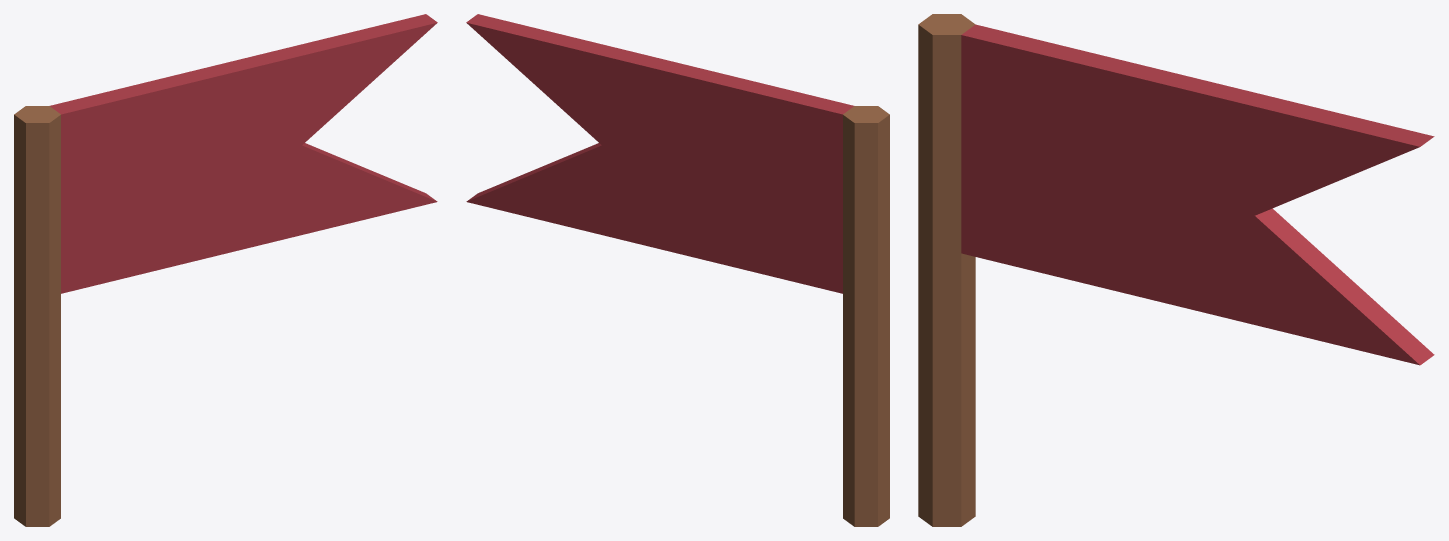
Rendered from Banner.glb.
The picture shows the model from 3 angles, left to right: view 1: azimuth 30°, elevation 25°; view 2: azimuth 150°, elevation 25°; view 3: azimuth 330°, elevation 25°; orthographic projection. The views are drawn at different scales.
Parts seen in each view (by area): view 1: Banner; view 2: Banner; view 3: Banner.
Part boxes in pixels (box(x1,y1,x2,y2)): Banner: box(14, 14, 437, 526); Banner: box(466, 14, 889, 526); Banner: box(918, 14, 1434, 526).
Bounding box in the file's own units: 0.7035 × 0.6588 × 0.0696.
